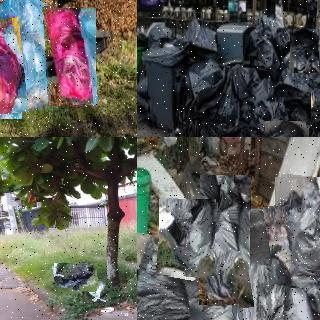Garbage: (226, 207, 294, 320), (0, 0, 63, 112), (200, 175, 251, 305), (137, 235, 209, 320), (272, 175, 320, 289), (45, 8, 97, 106), (158, 198, 217, 277), (188, 276, 250, 320), (0, 16, 22, 119), (269, 276, 320, 320), (53, 261, 98, 295), (290, 29, 319, 73), (262, 119, 308, 137), (83, 278, 112, 304)
